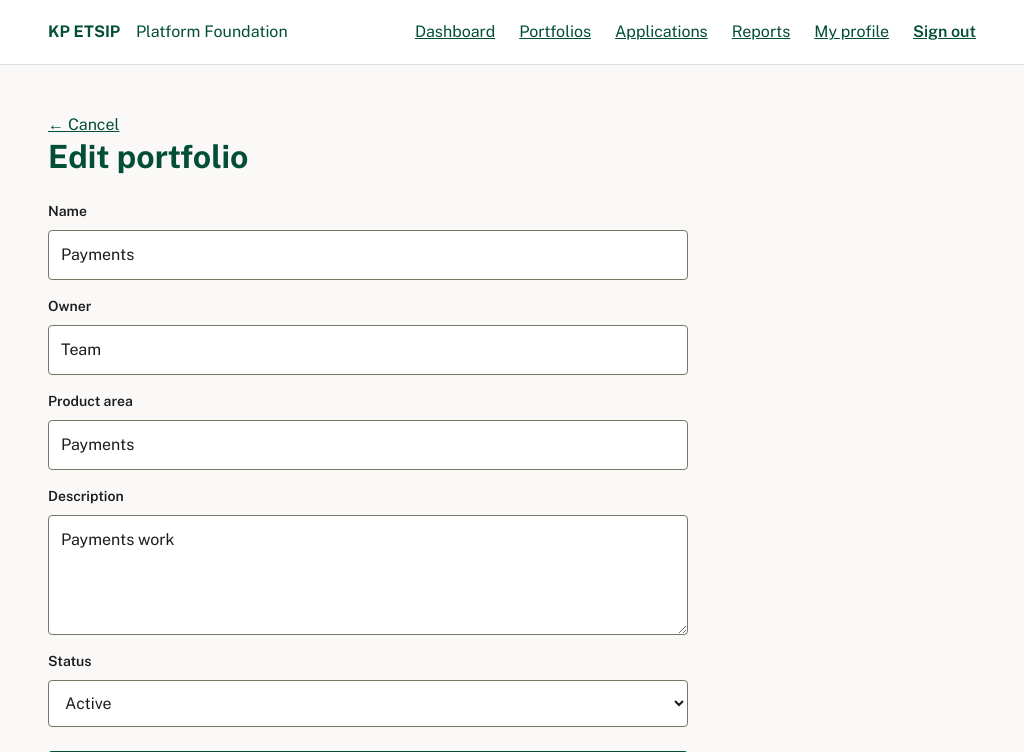
Test: portfolio inventory › saves edits and displays the server response
This screenshot has width=1024, height=752.
Replace the text in the text box labelled "Description" with "Updated" at (368, 575), box [48, 515, 688, 635]
(page scrolled)
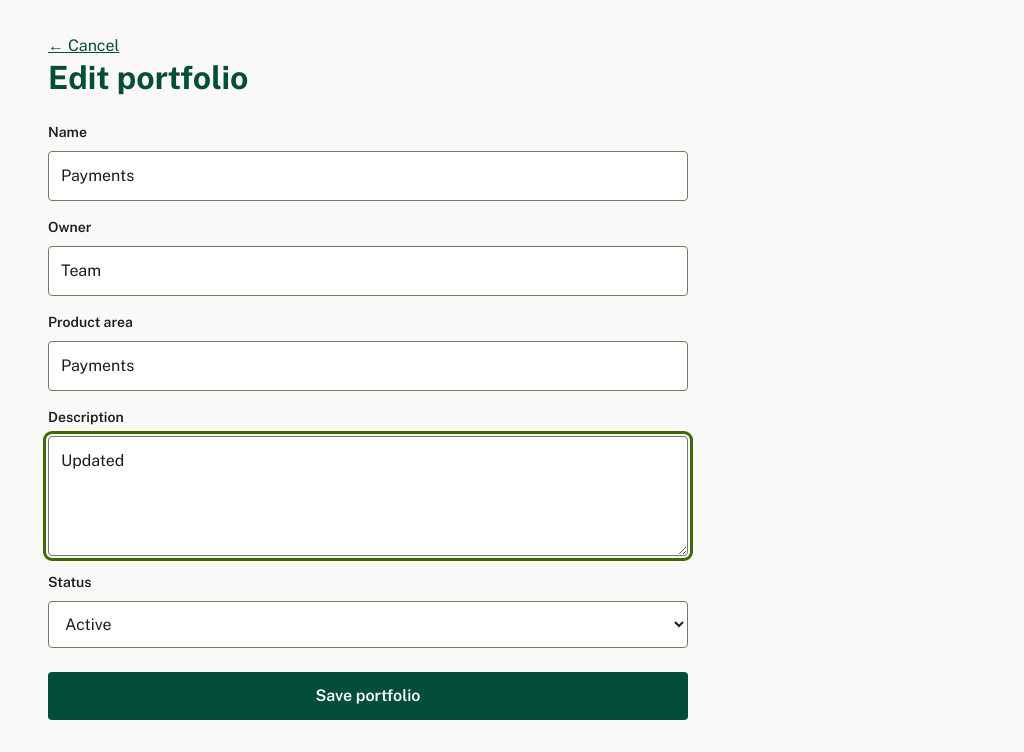
Click the button "Save portfolio" at (368, 696), box [48, 672, 688, 720]
(page scrolled)
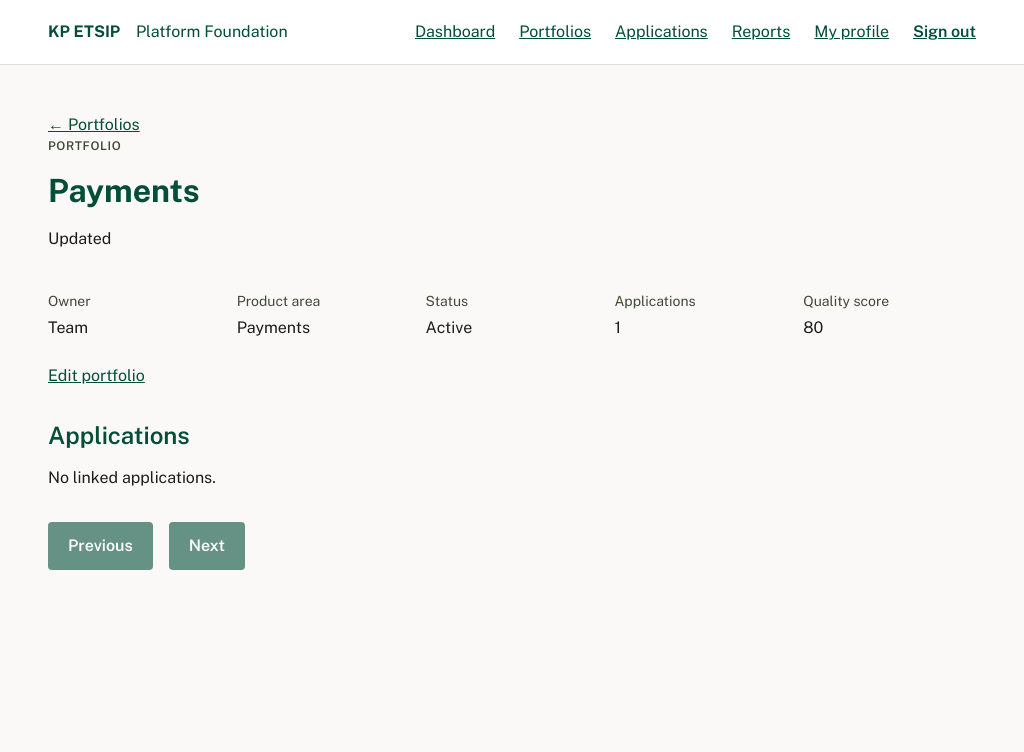
Check: the heading "Payments" is shown, box [48, 172, 200, 209]
Check: the text "Updated" is shown, box [48, 229, 111, 248]
